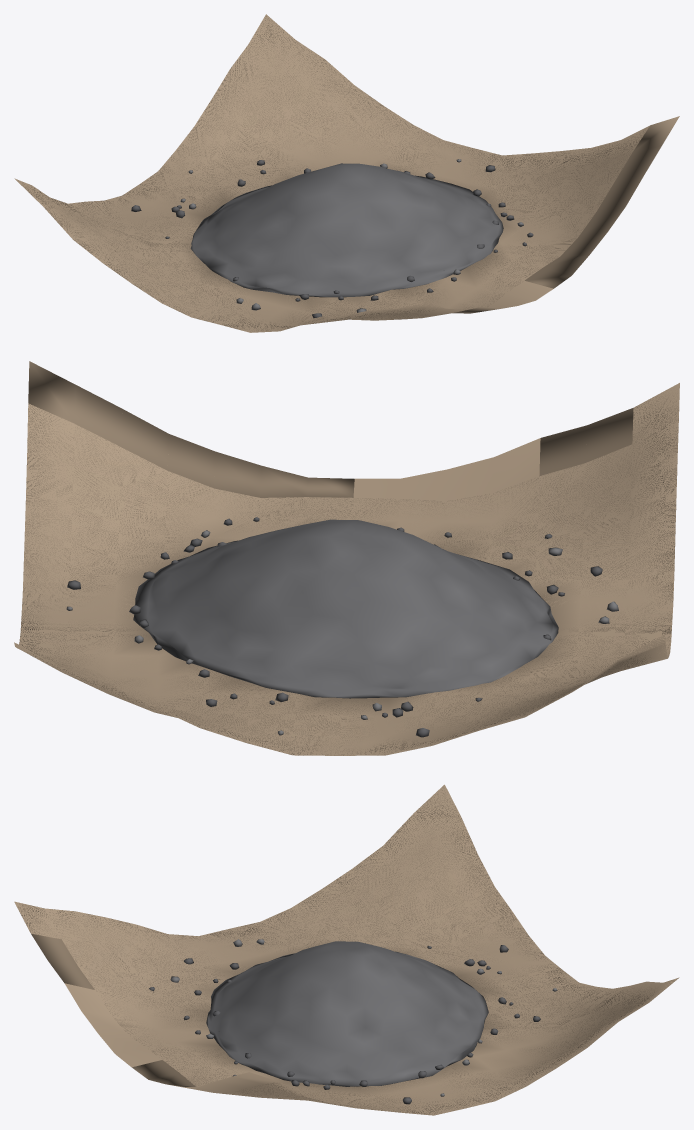
The model's file is gunpowder.glb.
3 views of the same model, one above another, from view 1: azimuth 30°, elevation 25°; view 2: azimuth 150°, elevation 25°; view 3: azimuth 270°, elevation 25° (orthographic). The views are drawn at different scales.
Parts seen in each view (by area): view 1: Body_lod0; view 2: Body_lod0; view 3: Body_lod0.
Boxes of the visible parts, left/top/right/bottom form: Body_lod0: left=14, top=14, right=679, bottom=332; Body_lod0: left=14, top=361, right=679, bottom=755; Body_lod0: left=14, top=784, right=679, bottom=1115.
Size of what is drawn, in the model's own units: 0.285 by 0.045 by 0.285.
